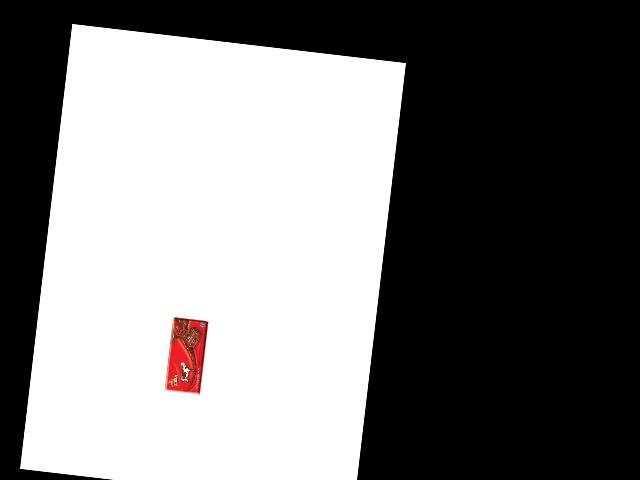chocolate: (162, 315, 212, 397)
